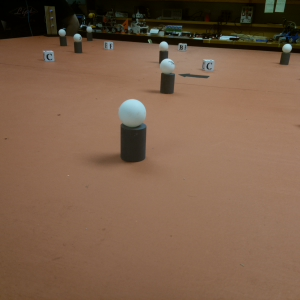blockB: (178, 41, 187, 51)
blockC: (42, 50, 57, 63), (201, 57, 215, 69)
blockF: (103, 41, 113, 51)
corner: (45, 7, 57, 36)
obstacle: (116, 97, 150, 164), (158, 59, 177, 94), (157, 40, 170, 62), (280, 42, 291, 66), (74, 34, 84, 52), (58, 29, 68, 45), (87, 27, 94, 41)
start: (179, 69, 211, 82)
